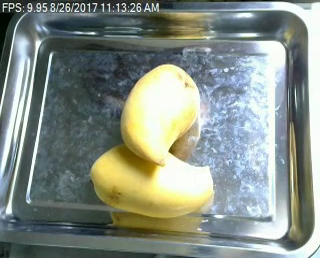Mango: (90, 141, 216, 219), (118, 62, 203, 166)
